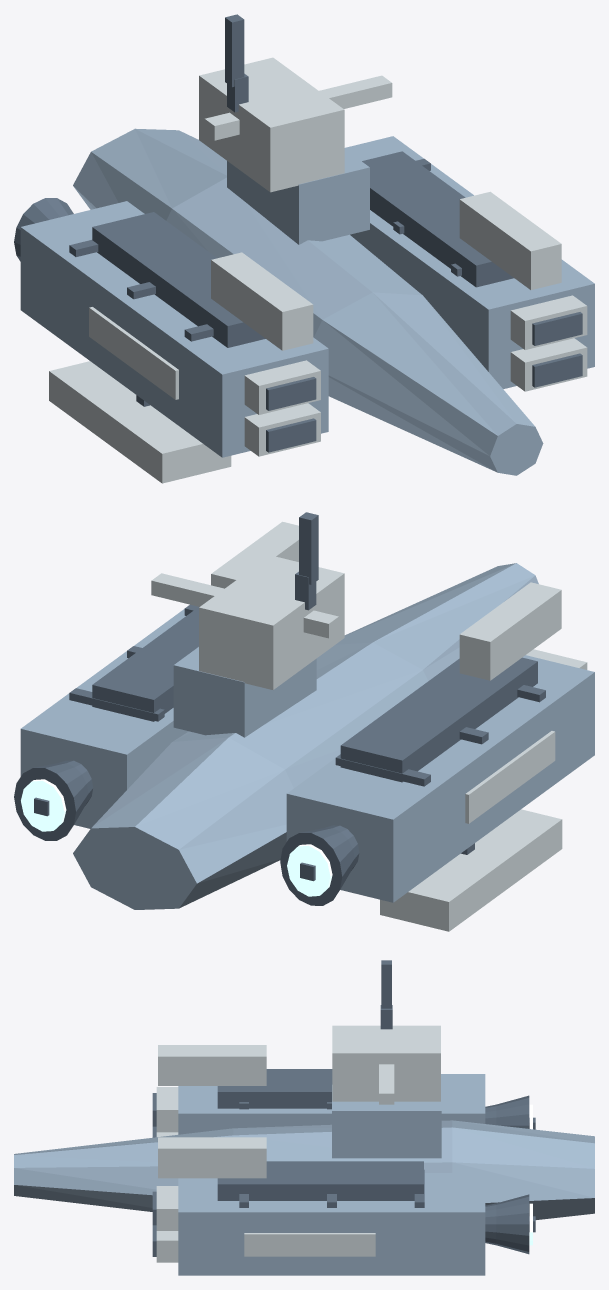
The picture shows the model from 3 angles, top to bottom: view 1: azimuth 30°, elevation 25°; view 2: azimuth 150°, elevation 25°; view 3: azimuth 270°, elevation 25°; orthographic projection. The views are drawn at different scales.
Size of the model in its own units: 12.62 by 11.11 by 21.41.
